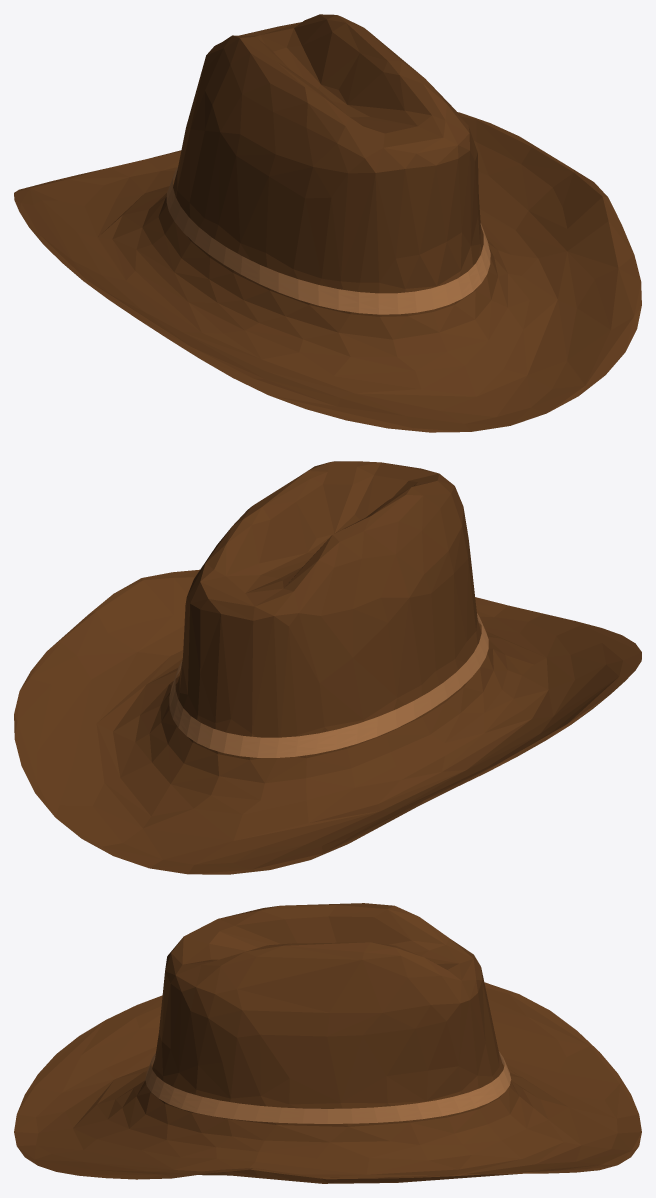
The model's file is Cowboy Hat.obj.
3 views of the same model, one above another, from view 1: azimuth 30°, elevation 25°; view 2: azimuth 150°, elevation 25°; view 3: azimuth 270°, elevation 25° (orthographic). The views are drawn at different scales.
Visible parts, largest first — view 1: Hat, ring; view 2: Hat, ring; view 3: Hat, ring.
Part boxes in pixels (x1,y1,x2,y2): Hat: [14, 14, 641, 432]; ring: [166, 166, 490, 314]; Hat: [14, 461, 641, 874]; ring: [169, 613, 488, 757]; Hat: [14, 903, 641, 1183]; ring: [145, 1051, 511, 1123].
Bounding box in the file's own units: 300 × 142 × 387.
